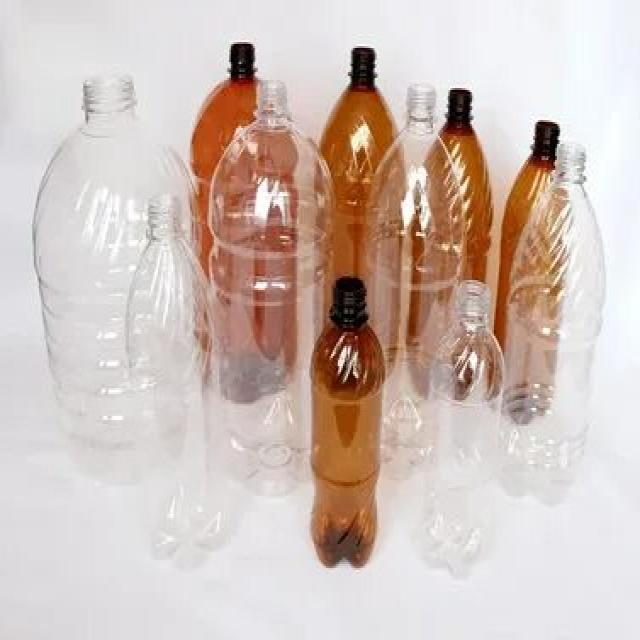brown: (312, 278, 384, 568), (323, 42, 396, 150), (188, 43, 256, 127), (444, 75, 490, 190), (509, 112, 559, 192)
